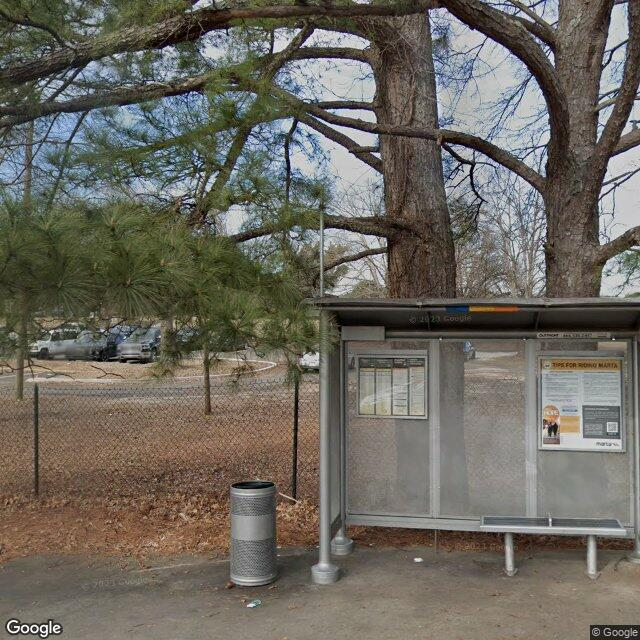seating: (480, 514, 628, 579)
shelter: (302, 290, 639, 590)
trash_can: (228, 480, 278, 587)
